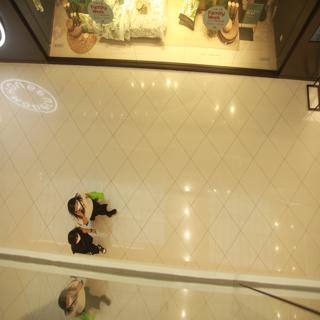person: (60, 184, 124, 231), (67, 229, 110, 257)
